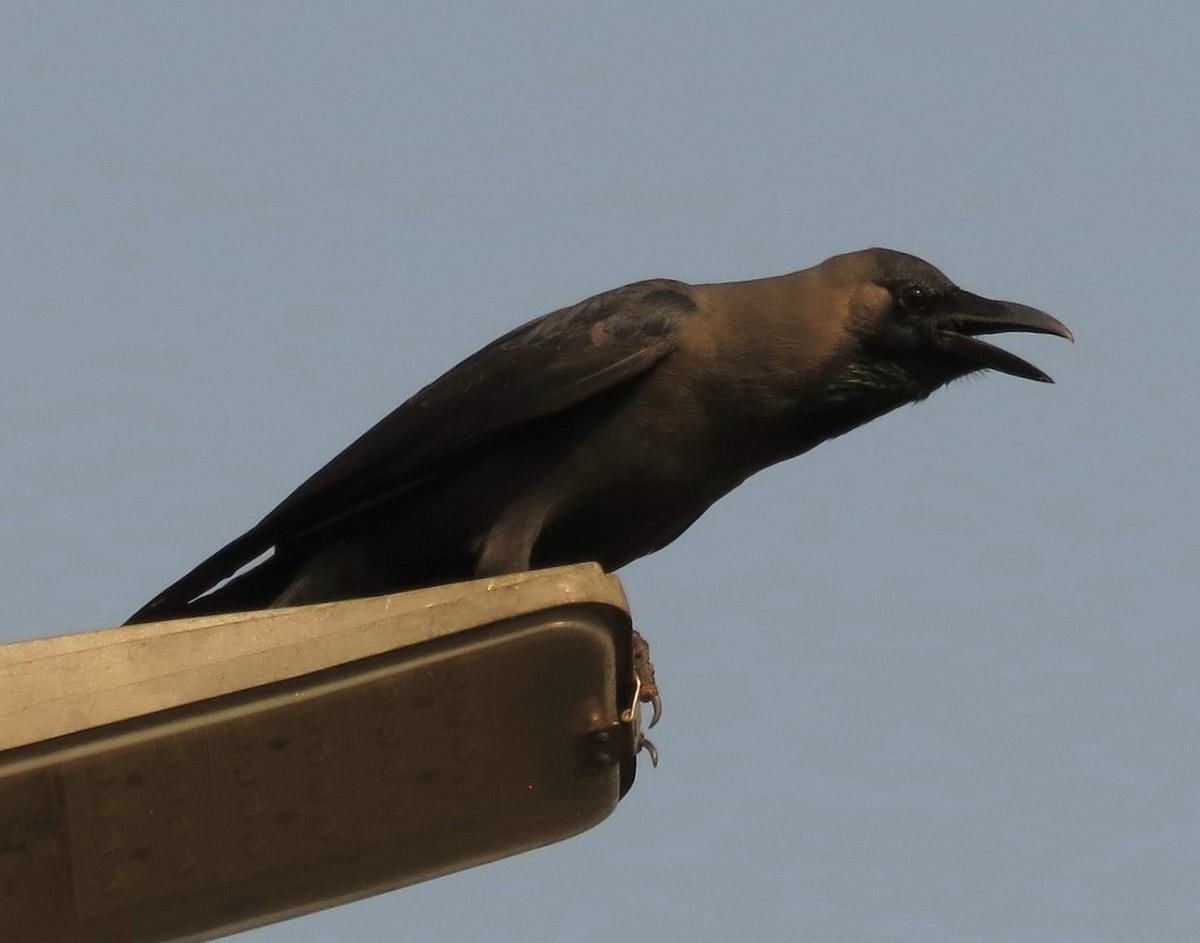crow: (173, 235, 1090, 705)
